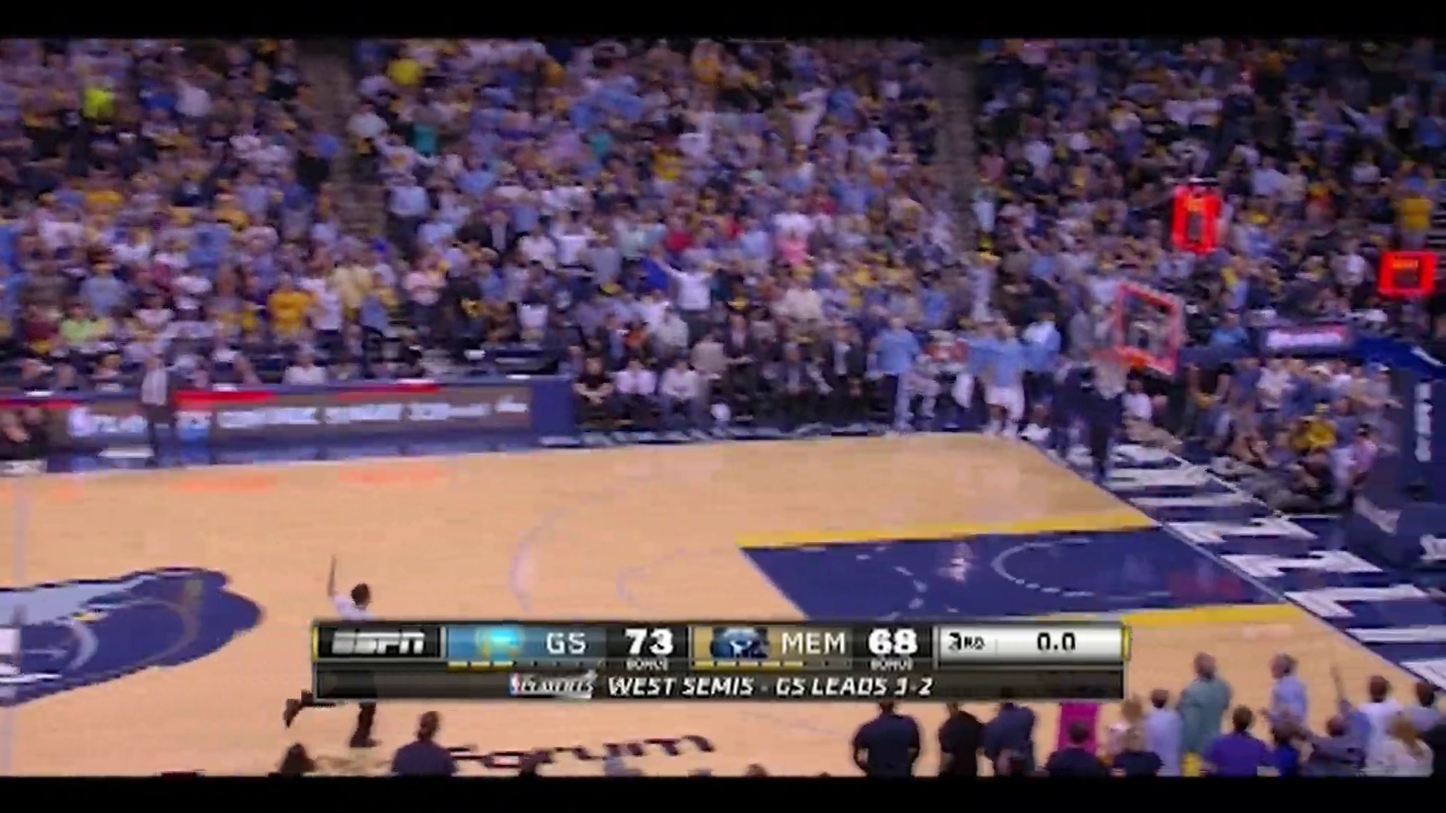basket_hoop: (1071, 272, 1187, 400)
